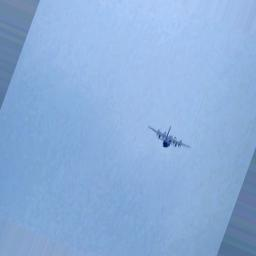Airplane: (148, 125, 194, 151)
